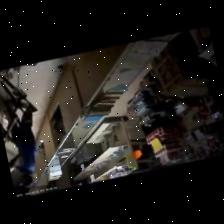person: (9, 106, 37, 187)
